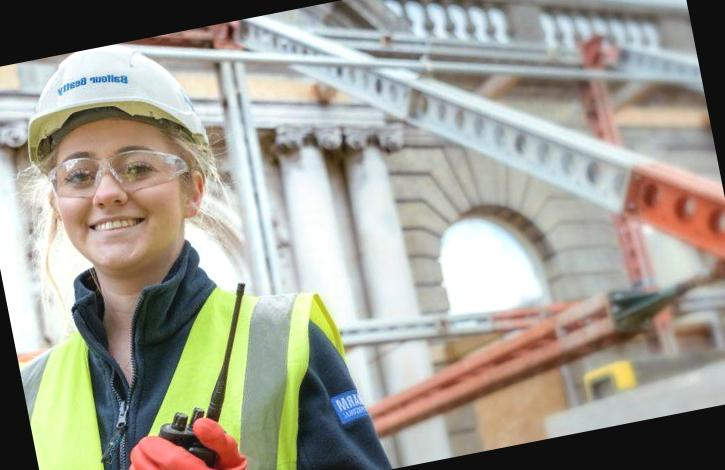helmet: (0, 31, 216, 184)
person: (0, 10, 379, 470)
